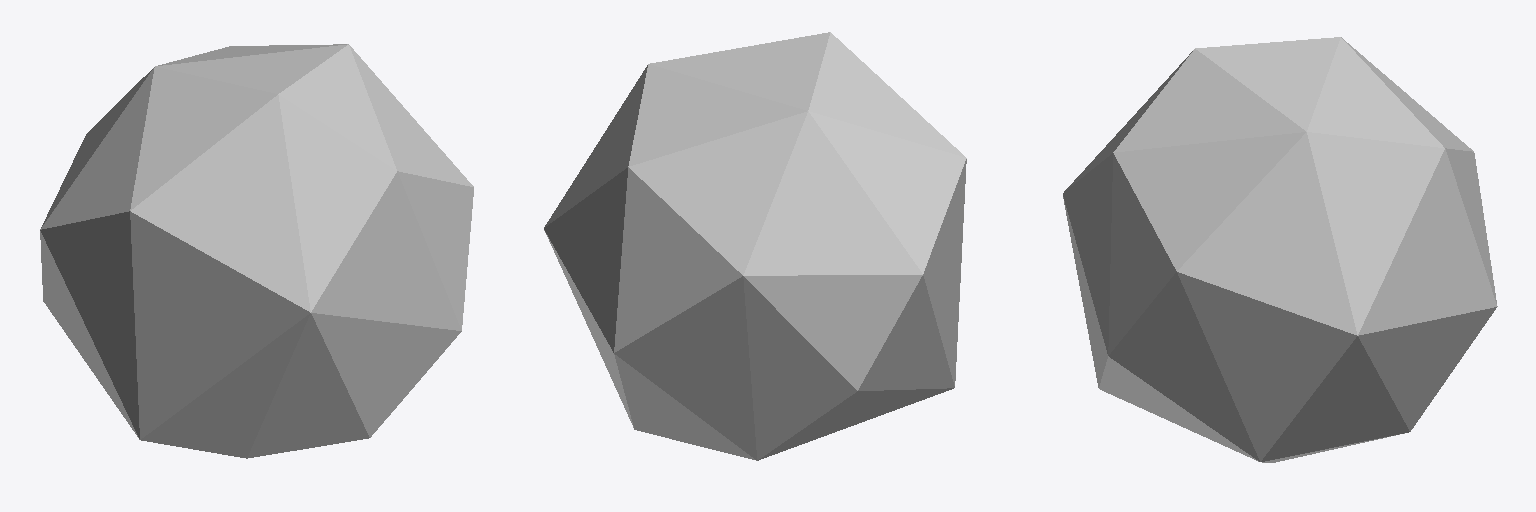
File: lodtest_lod-002.obj
The picture shows the model from 3 angles: view 1: azimuth 30°, elevation 25°; view 2: azimuth 150°, elevation 25°; view 3: azimuth 270°, elevation 25°; orthographic projection.
Visible parts, largest first — view 1: lodtest_lod-002_lodtest.003; view 2: lodtest_lod-002_lodtest.003; view 3: lodtest_lod-002_lodtest.003.
Boxes of the visible parts, x1=… form: lodtest_lod-002_lodtest.003: x1=40, y1=44, x2=473, y2=458; lodtest_lod-002_lodtest.003: x1=544, y1=32, x2=966, y2=460; lodtest_lod-002_lodtest.003: x1=1063, y1=37, x2=1497, y2=462.
Bounding box in the file's own units: 1.99 × 2.03 × 2.02.